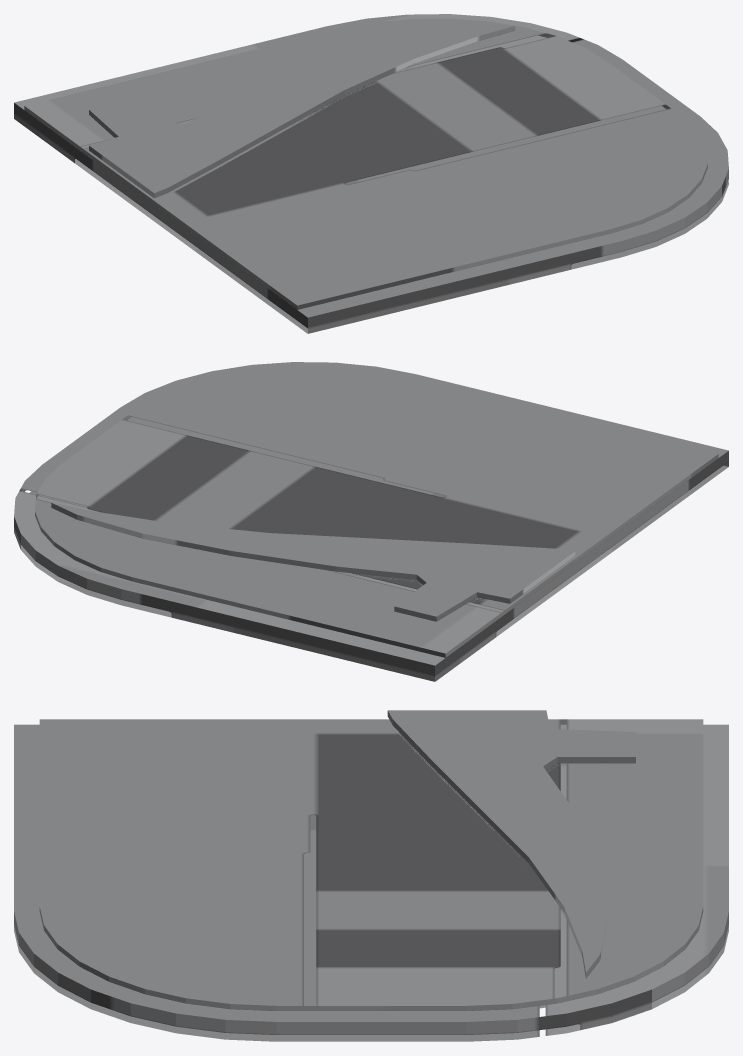
3 views of the same model, one above another, from view 1: azimuth 30°, elevation 25°; view 2: azimuth 150°, elevation 25°; view 3: azimuth 270°, elevation 25° (orthographic). The views are drawn at different scales.
Size of the model in its own units: 0.964 by 0.052 by 0.98.
